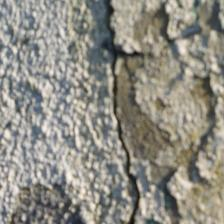Crack: (98, 3, 146, 223)
